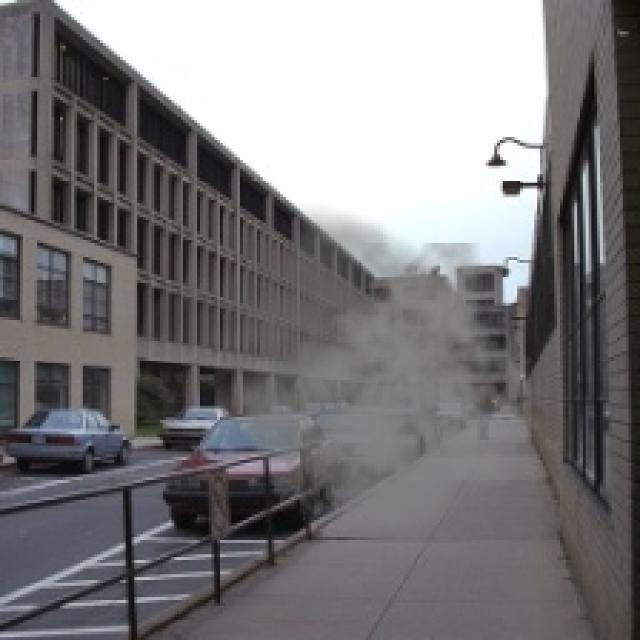Smoke: (131, 200, 543, 554)
